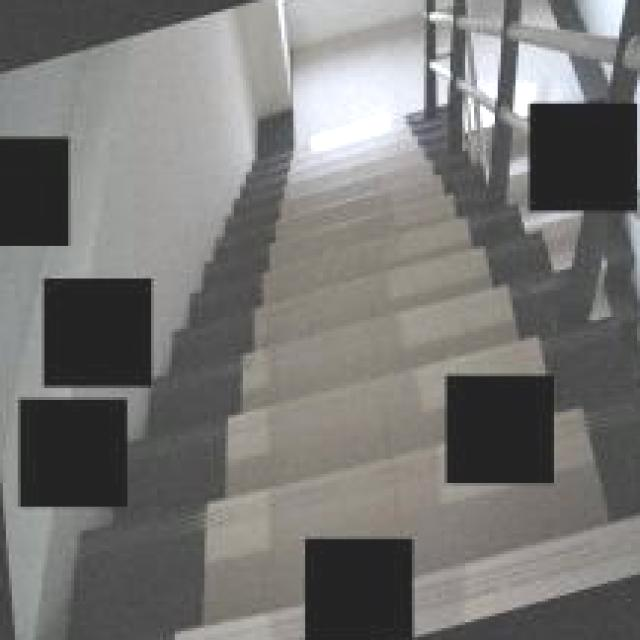downstair: (256, 176, 434, 516)
